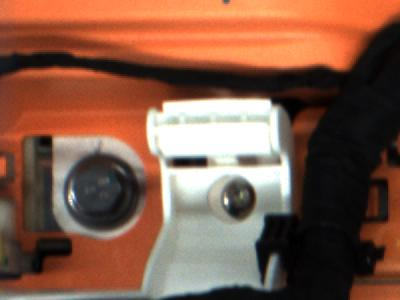nut_b: (60, 149, 139, 234)
